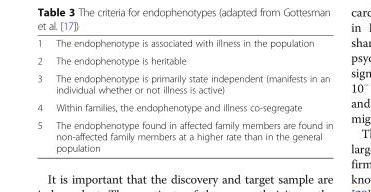table: (36, 37, 332, 153)
table column: (48, 37, 332, 153), (36, 37, 48, 153)
table row: (36, 116, 332, 153), (36, 69, 332, 98), (36, 51, 332, 69), (36, 98, 332, 116), (36, 37, 332, 51)
